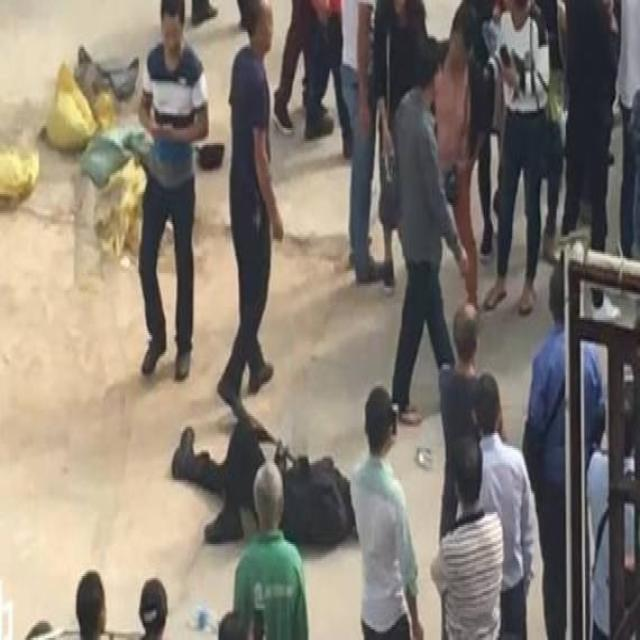10-: (1, 0, 639, 638)
down: (165, 397, 360, 552)
